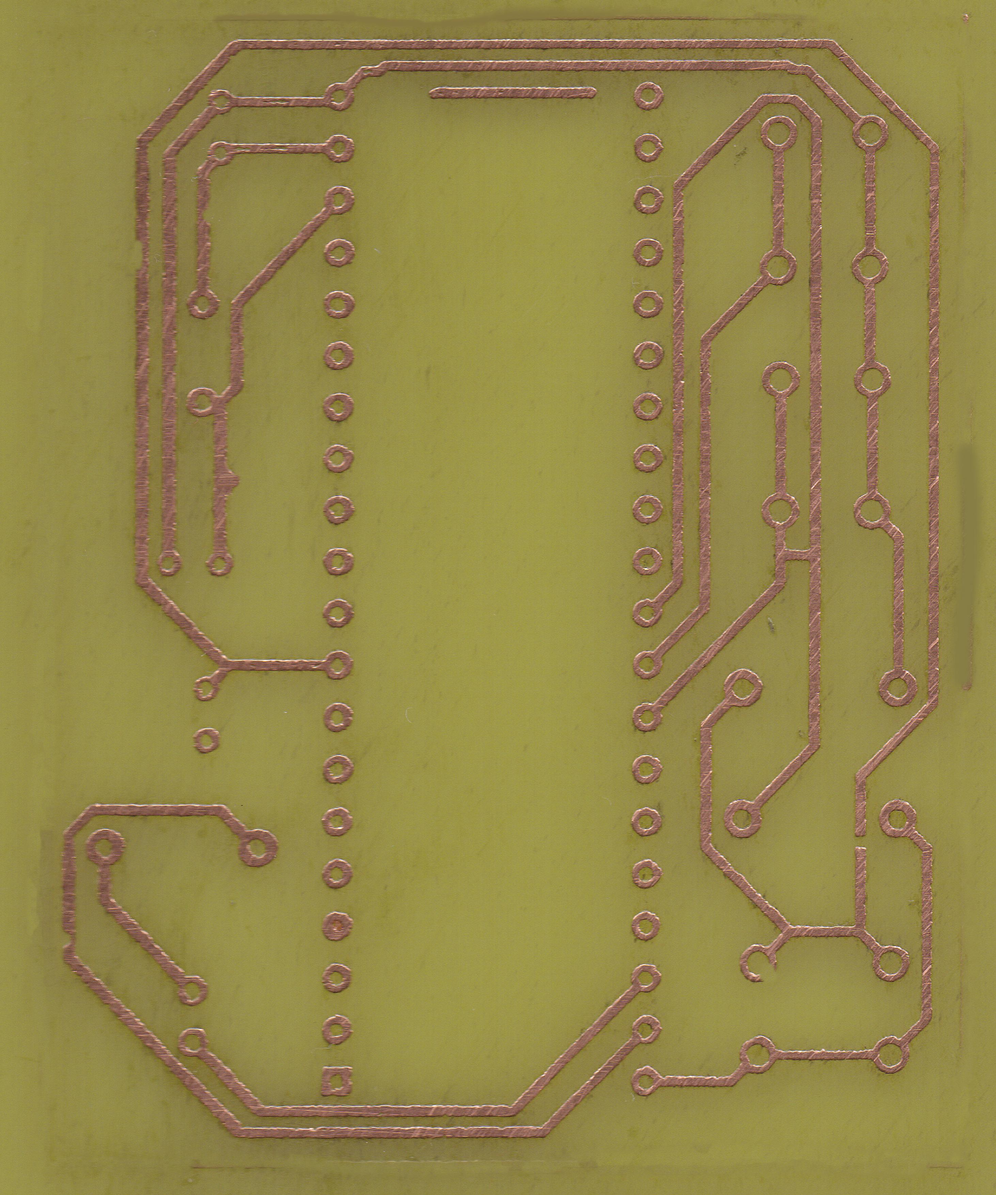missing_hole: (738, 943, 780, 984)
mouse_bite: (133, 237, 150, 274), (198, 203, 213, 229), (60, 928, 76, 951)
open_circuit: (854, 829, 867, 855)
short: (776, 542, 821, 568)
spur: (212, 465, 242, 496)
spurious_copper: (428, 82, 599, 104)
